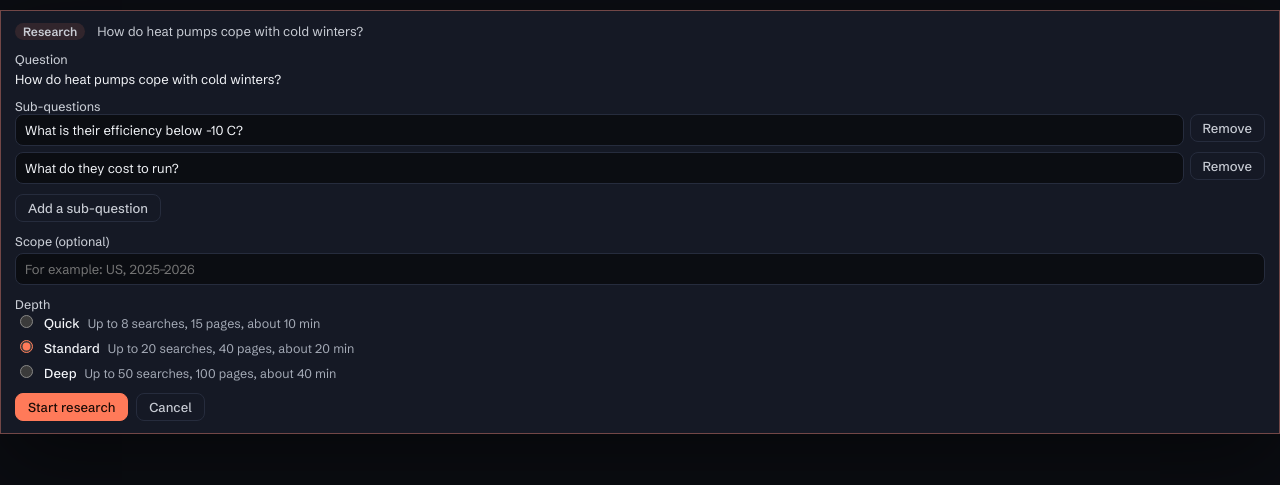
Test case: ResearchRunCard › shows the error and stays on the brief when Start fails
Click the button "Start research": point(72, 407) [15,393,128,421]
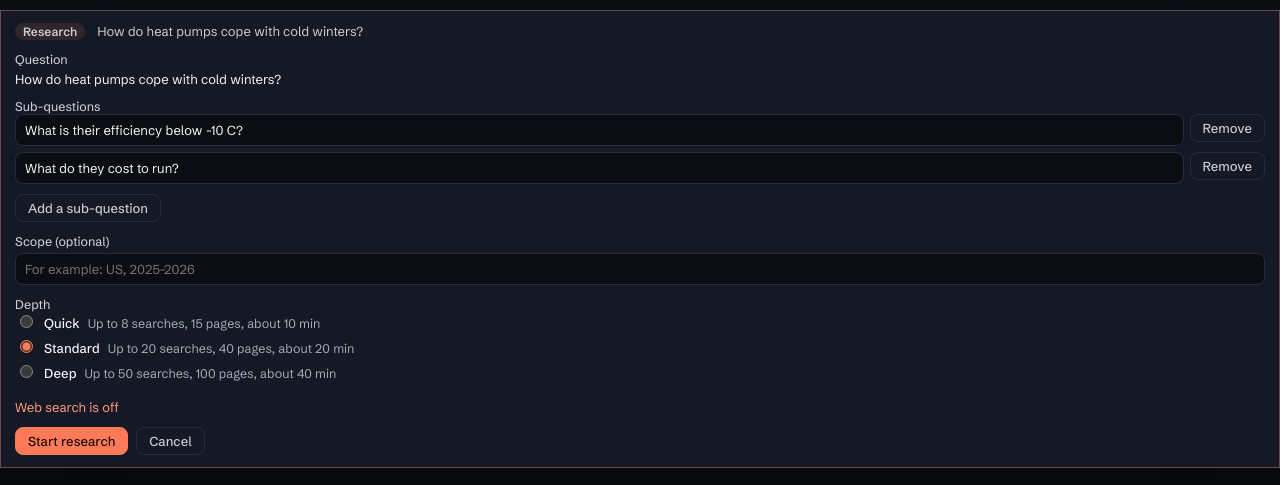
expect the button "Start research" is enabled: met, box [15,427,128,455]
expect the message reads "Web search is off": met, box [15,399,119,415]
